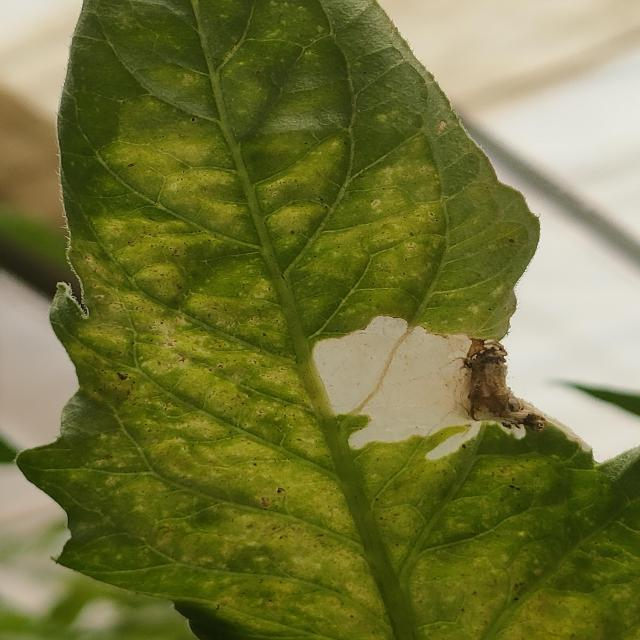Tuta absoluta: (308, 299, 488, 455), (424, 420, 486, 465)
